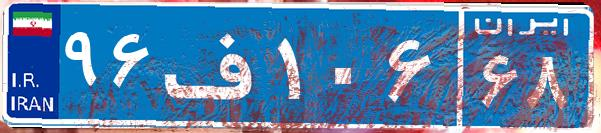0: (330, 28, 385, 110)
1: (273, 28, 330, 110)
6: (385, 28, 445, 110), (475, 38, 525, 113), (110, 28, 158, 105)
8: (525, 38, 570, 115)
9: (57, 26, 110, 107)
ف: (158, 15, 273, 115)
